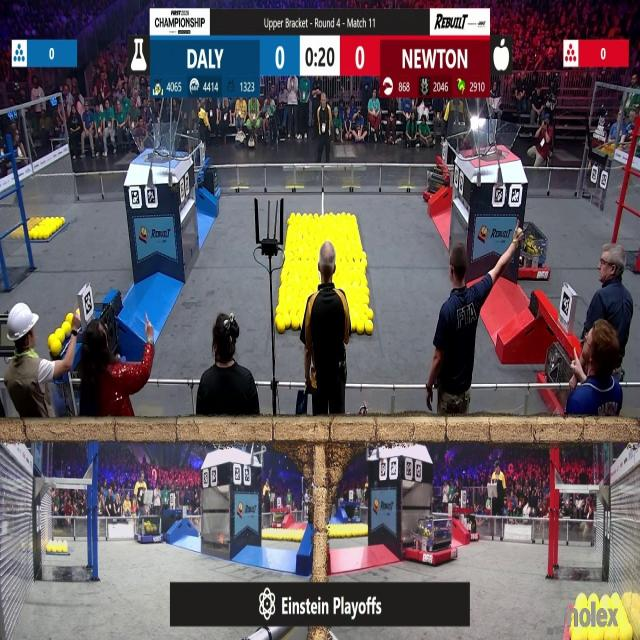ball_airborne: (608, 144, 614, 152)
ball_ground: (364, 322, 372, 334), (366, 310, 372, 319)
goal: (464, 120, 518, 160), (132, 131, 188, 159)
robot_blue: (334, 488, 368, 523), (132, 516, 169, 545), (195, 167, 221, 201)
robot_red: (538, 357, 587, 415), (410, 514, 455, 565), (520, 238, 554, 282), (423, 168, 453, 204), (453, 514, 479, 542)
